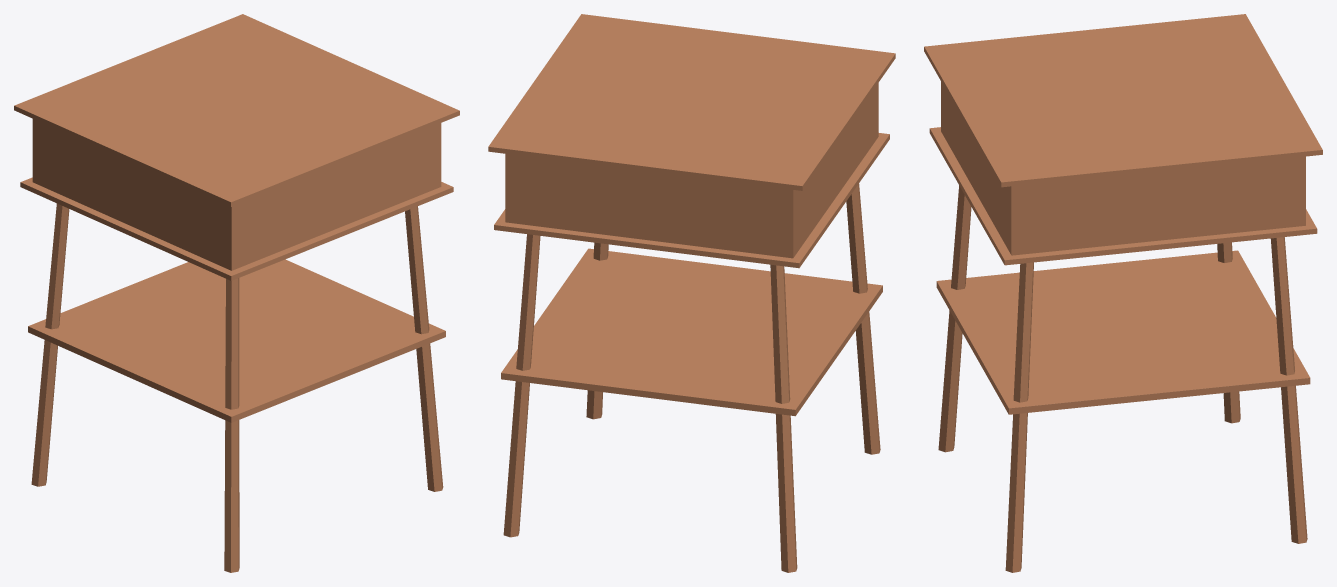
Rendered from table_single001.obj.
3 renders of one model, left to right at view 1: azimuth 30°, elevation 25°; view 2: azimuth 150°, elevation 25°; view 3: azimuth 270°, elevation 25°, orthographic. The views are drawn at different scales.
Visible parts, largest first — view 1: table_single.001_Cube.001; view 2: table_single.001_Cube.001; view 3: table_single.001_Cube.001.
Boxes of the visible parts, x1,y1,x2,y2 form: table_single.001_Cube.001: [14, 14, 459, 572]; table_single.001_Cube.001: [488, 14, 895, 572]; table_single.001_Cube.001: [924, 14, 1322, 572].
Size of the model in its own units: 1.86 by 2.04 by 1.86.
